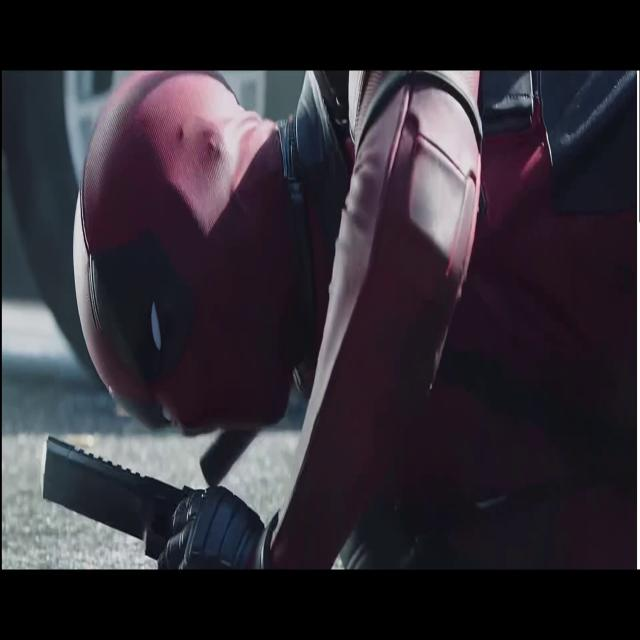weapons: (26, 418, 271, 570)
